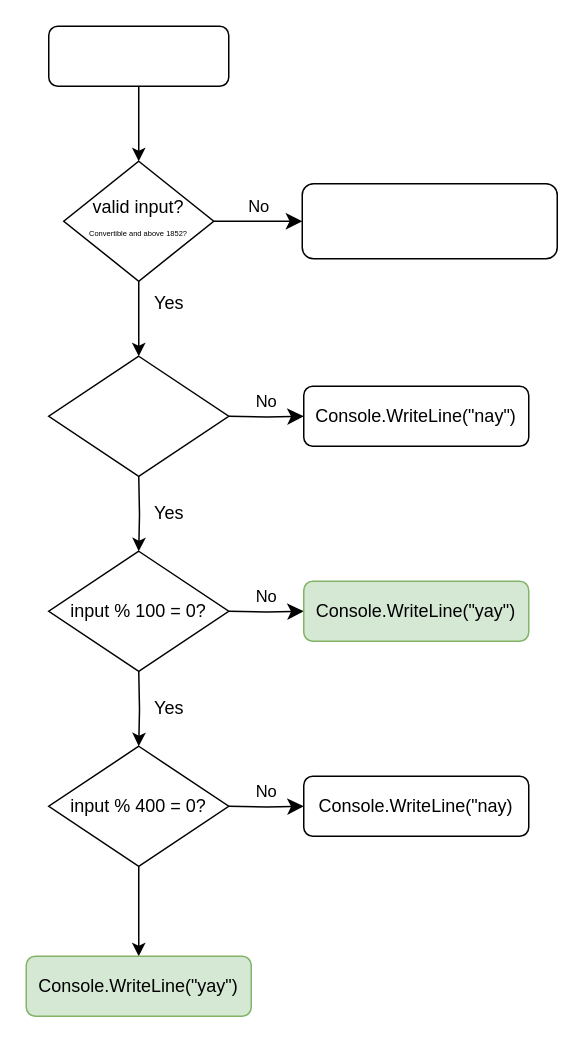
The diagram is 584 pixels wide and 1043 high, and some of its shapes have lost their labels. Each missing label, with the centre of its shape:
FormatException Console.WriteLine("Please enter a valid input"): (429,220)
input % 4 = 0?: (138,415)
User input: (138,55)
